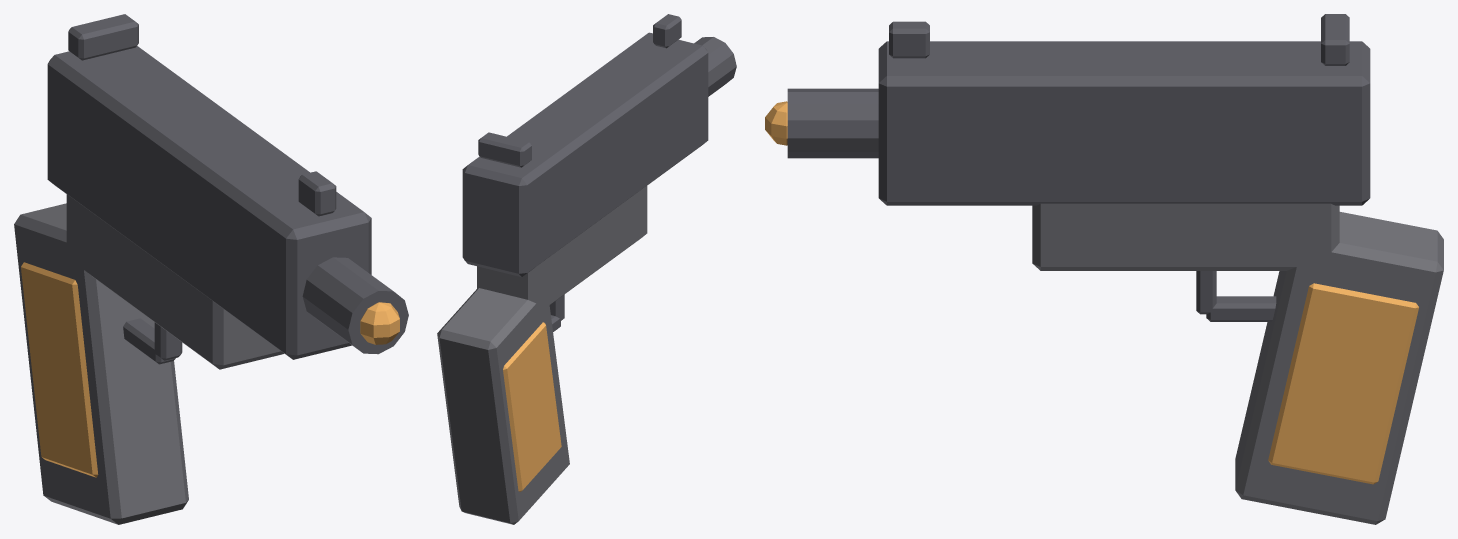
The model's file is Pistol.fbx.
3 views of the same model, side by side, from view 1: azimuth 30°, elevation 25°; view 2: azimuth 150°, elevation 25°; view 3: azimuth 270°, elevation 25° (orthographic). The views are drawn at different scales.
Visible parts, largest first — view 1: Slide, Grip, Frame, GripPanel, Barrel, RearSight, FrontSight, MuzzleFlashPoint, GuardBottom, GuardFront; view 2: Slide, Grip, Frame, GripPanel, RearSight, Barrel, FrontSight; view 3: Slide, Grip, GripPanel, Frame, Barrel, GuardBottom, FrontSight, RearSight, GuardFront, MuzzleFlashPoint.
Boxes of the visible parts, bbox=[...] form: Slide: bbox=[47, 46, 371, 359]; Grip: bbox=[14, 203, 188, 524]; Frame: bbox=[66, 194, 283, 369]; GripPanel: bbox=[21, 262, 98, 477]; Barrel: bbox=[302, 257, 408, 354]; RearSight: bbox=[68, 14, 138, 60]; FrontSight: bbox=[298, 171, 336, 216]; MuzzleFlashPoint: bbox=[360, 302, 399, 344]; GuardBottom: bbox=[123, 318, 175, 364]; GuardFront: bbox=[154, 322, 182, 360]; Slide: bbox=[462, 32, 708, 276]; Grip: bbox=[437, 288, 569, 524]; Frame: bbox=[477, 185, 647, 314]; GripPanel: bbox=[503, 322, 561, 491]; RearSight: bbox=[478, 132, 531, 167]; Barrel: bbox=[694, 37, 736, 96]; FrontSight: bbox=[653, 14, 681, 48]; Slide: bbox=[878, 41, 1370, 205]; Grip: bbox=[1235, 212, 1443, 524]; GripPanel: bbox=[1268, 283, 1418, 484]; Frame: bbox=[1032, 203, 1339, 270]; Barrel: bbox=[787, 88, 878, 158]; GuardBottom: bbox=[1206, 296, 1276, 321]; FrontSight: bbox=[889, 21, 929, 58]; RearSight: bbox=[1321, 14, 1349, 65]; GuardFront: bbox=[1196, 271, 1216, 314]; MuzzleFlashPoint: bbox=[765, 101, 787, 145].
Bounding box in the file's own units: 0.048 × 0.2609 × 0.3314.
